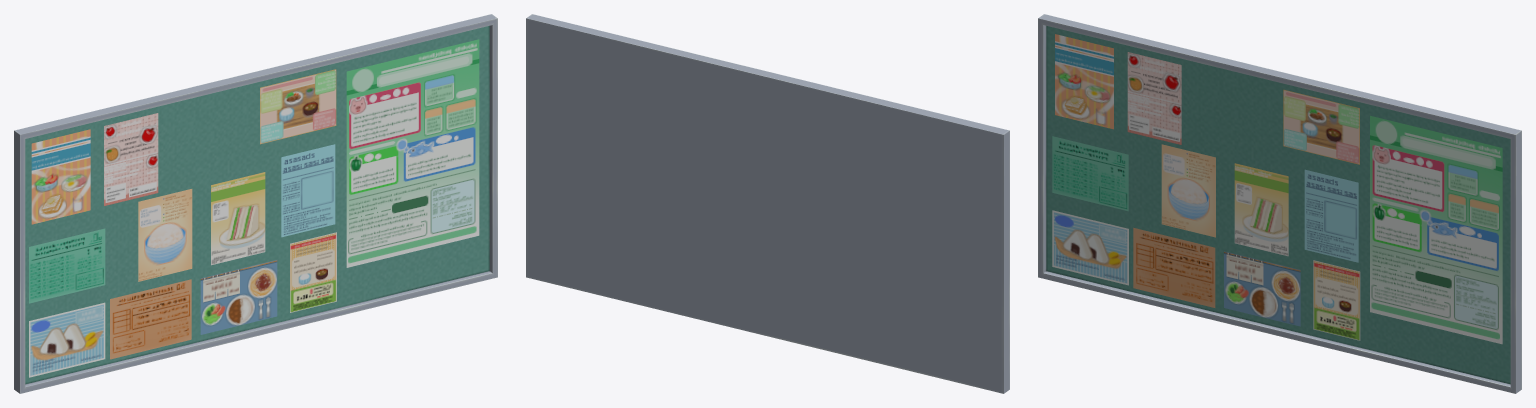
Rendered from KR_Board_01_02.fbx.
The picture shows the model from 3 angles, left to right: view 1: azimuth 30°, elevation 25°; view 2: azimuth 150°, elevation 25°; view 3: azimuth 330°, elevation 25°; orthographic projection.
Parts seen in each view (by area): view 1: board01_01, paperB2_02, paperA4_03, paperB5_01, paperA4_05, paperA4_08, paperA4_09, paperA4_01, paperA4_010, paperA4_04, paperA4_015, paperA4_07 (+1 smaller); view 2: board01_01; view 3: board01_01, paperB2_02, paperA4_03, paperB5_01, paperA4_01, paperA4_08, paperA4_09, paperA4_010, paperA4_04, paperA4_05, paperA4_015, paperA4_07 (+1 smaller).
Boxes of the visible parts, x1=… form: board01_01: x1=14, y1=14, x2=497, y2=393; paperB2_02: x1=346, y1=39, x2=479, y2=267; paperA4_03: x1=110, y1=279, x2=191, y2=359; paperB5_01: x1=31, y1=129, x2=90, y2=224; paperA4_05: x1=200, y1=260, x2=277, y2=334; paperA4_08: x1=281, y1=144, x2=335, y2=237; paperA4_09: x1=138, y1=189, x2=192, y2=281; paperA4_01: x1=104, y1=113, x2=158, y2=205; paperA4_010: x1=211, y1=172, x2=265, y2=265; paperA4_04: x1=29, y1=228, x2=105, y2=303; paperA4_015: x1=260, y1=69, x2=336, y2=144; paperA4_07: x1=29, y1=302, x2=105, y2=377; board01_01: x1=526, y1=14, x2=1009, y2=393; board01_01: x1=1038, y1=14, x2=1521, y2=393; paperB2_02: x1=1370, y1=115, x2=1502, y2=344; paperA4_03: x1=1133, y1=227, x2=1215, y2=307; paperB5_01: x1=1055, y1=34, x2=1113, y2=129; paperA4_01: x1=1127, y1=52, x2=1181, y2=144; paperA4_08: x1=1304, y1=169, x2=1358, y2=262; paperA4_09: x1=1161, y1=144, x2=1215, y2=237; paperA4_010: x1=1234, y1=163, x2=1288, y2=256; paperA4_04: x1=1052, y1=136, x2=1128, y2=211; paperA4_05: x1=1224, y1=251, x2=1300, y2=326; paperA4_015: x1=1283, y1=89, x2=1359, y2=164; paperA4_07: x1=1052, y1=210, x2=1128, y2=285.
Size of the model in its own units: 185 by 96 by 4.
